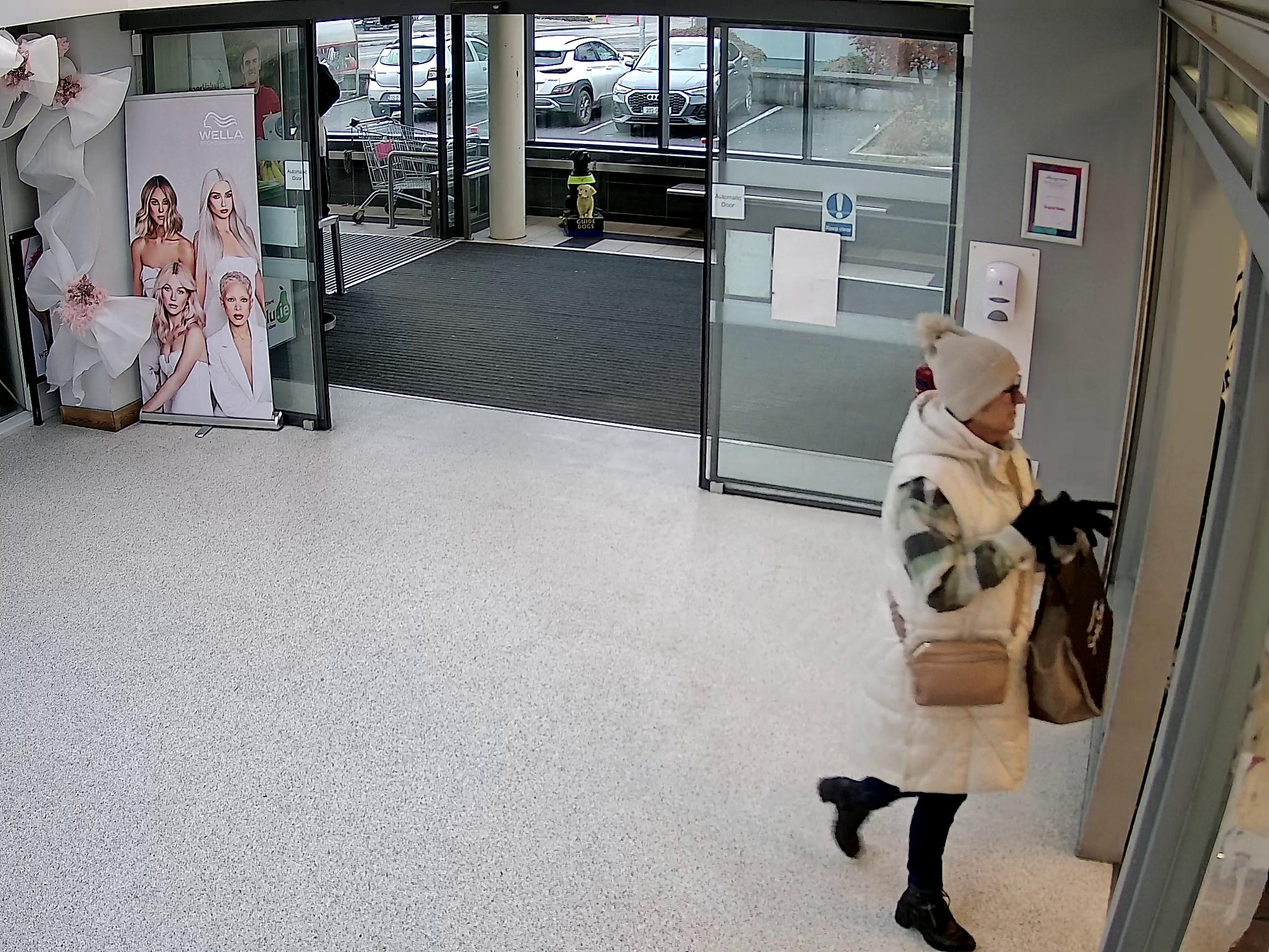backpack-or-handbag: (903, 627, 1013, 713)
empty-shopping-bags: (1025, 524, 1118, 725)
person: (814, 303, 1041, 952)
person-with-backpack-handbag-and-shopping-bag-s-: (815, 300, 1118, 952)
